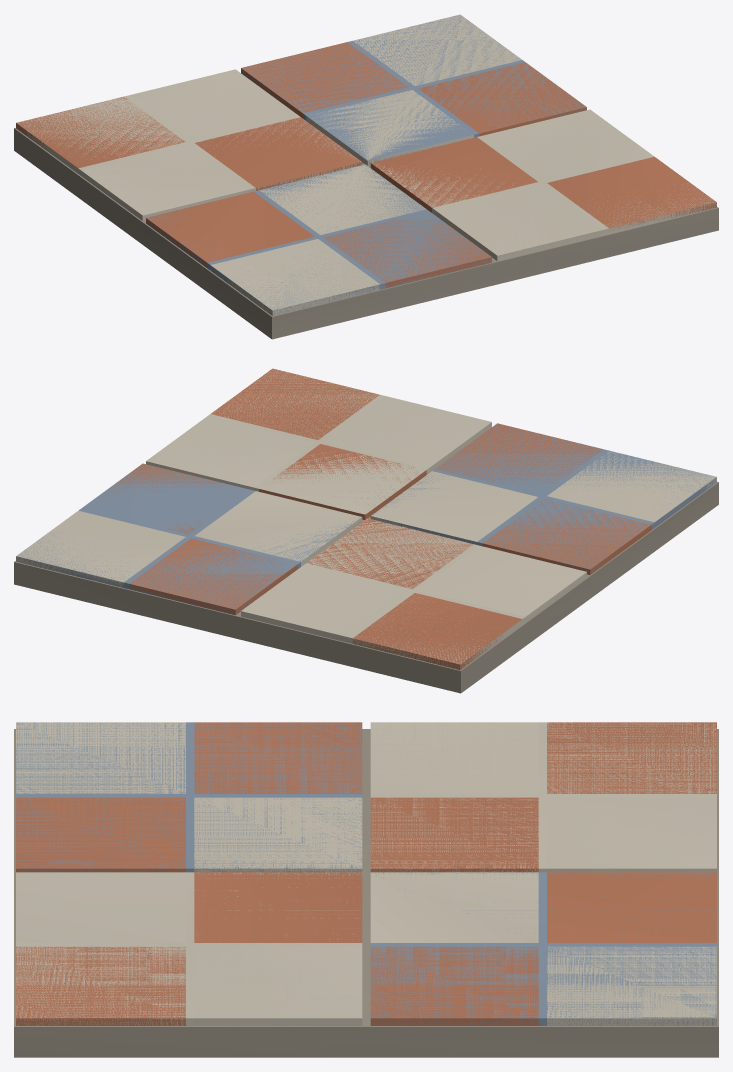
File: floor.tile.glb
3 renders of one model, top to bottom at view 1: azimuth 30°, elevation 25°; view 2: azimuth 150°, elevation 25°; view 3: azimuth 270°, elevation 25°, orthographic. The views are drawn at different scales.
Parts seen in each view (by area): view 1: floor.tile.v0.mesh, floor.tile.v2.mesh; view 2: floor.tile.v0.mesh, floor.tile.v2.mesh; view 3: floor.tile.v0.mesh, floor.tile.v2.mesh.
Part boxes in pixels (box(x1,y1,x2,y2)): floor.tile.v0.mesh: box(14, 14, 718, 339); floor.tile.v2.mesh: box(16, 15, 716, 315); floor.tile.v0.mesh: box(14, 368, 718, 693); floor.tile.v2.mesh: box(16, 369, 716, 668); floor.tile.v0.mesh: box(14, 722, 718, 1057); floor.tile.v2.mesh: box(16, 722, 716, 1025).
Bounding box in the file's own units: 1 × 0.0599 × 1.
